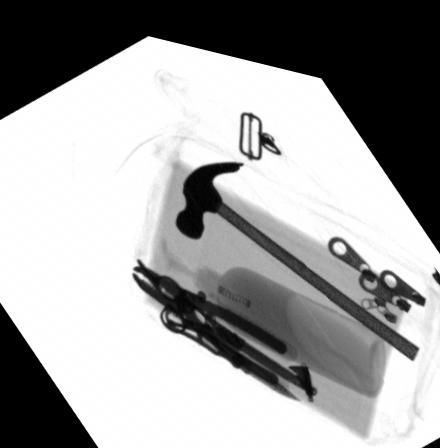Hammer: (172, 150, 419, 342)
Knife: (164, 298, 304, 388)
Pliers: (129, 257, 288, 373)
Scissors: (133, 248, 322, 381)
